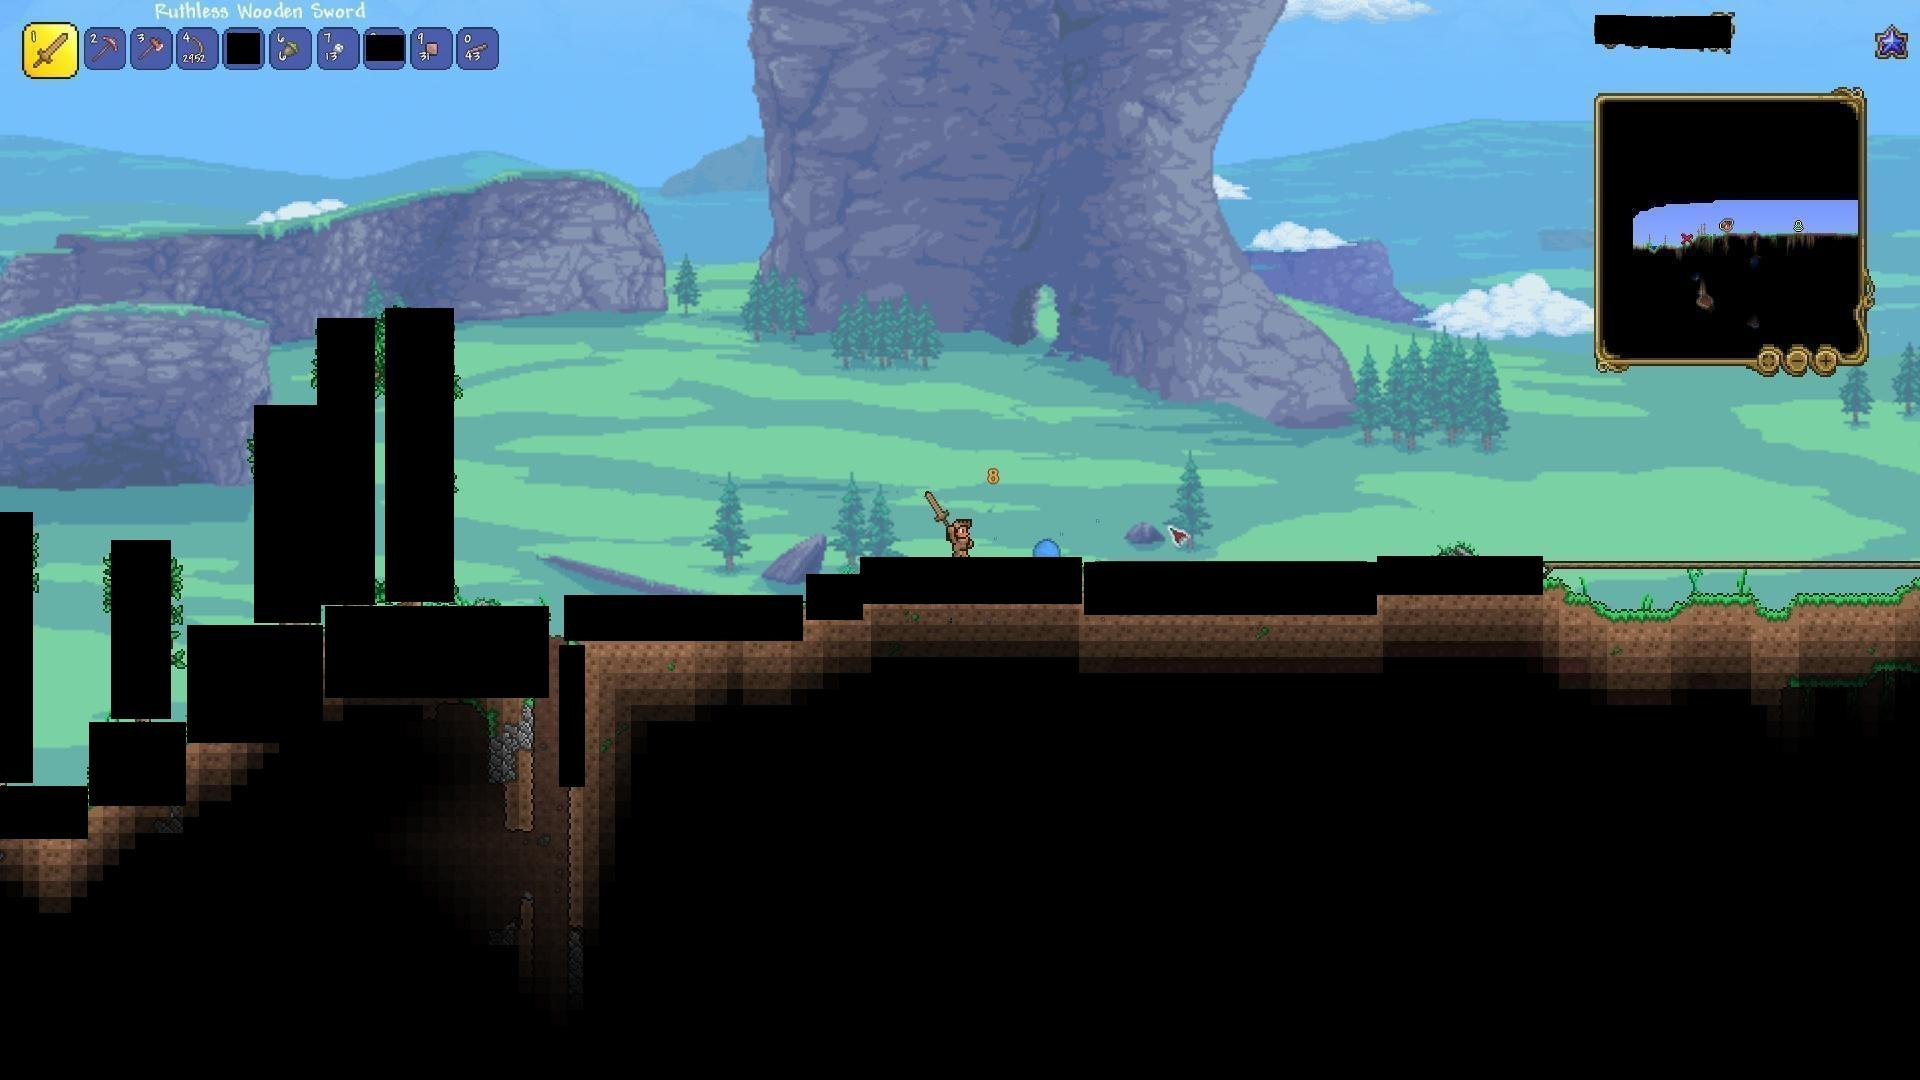dirt: (1544, 574, 1917, 626)
slime: (1029, 534, 1064, 562)
